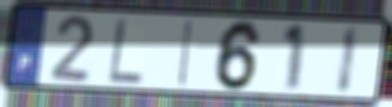1: (280, 22, 309, 93)
2: (49, 13, 97, 85)
6: (210, 18, 265, 93)
I: (334, 23, 362, 97), (175, 17, 197, 89)
L: (107, 15, 145, 86)
